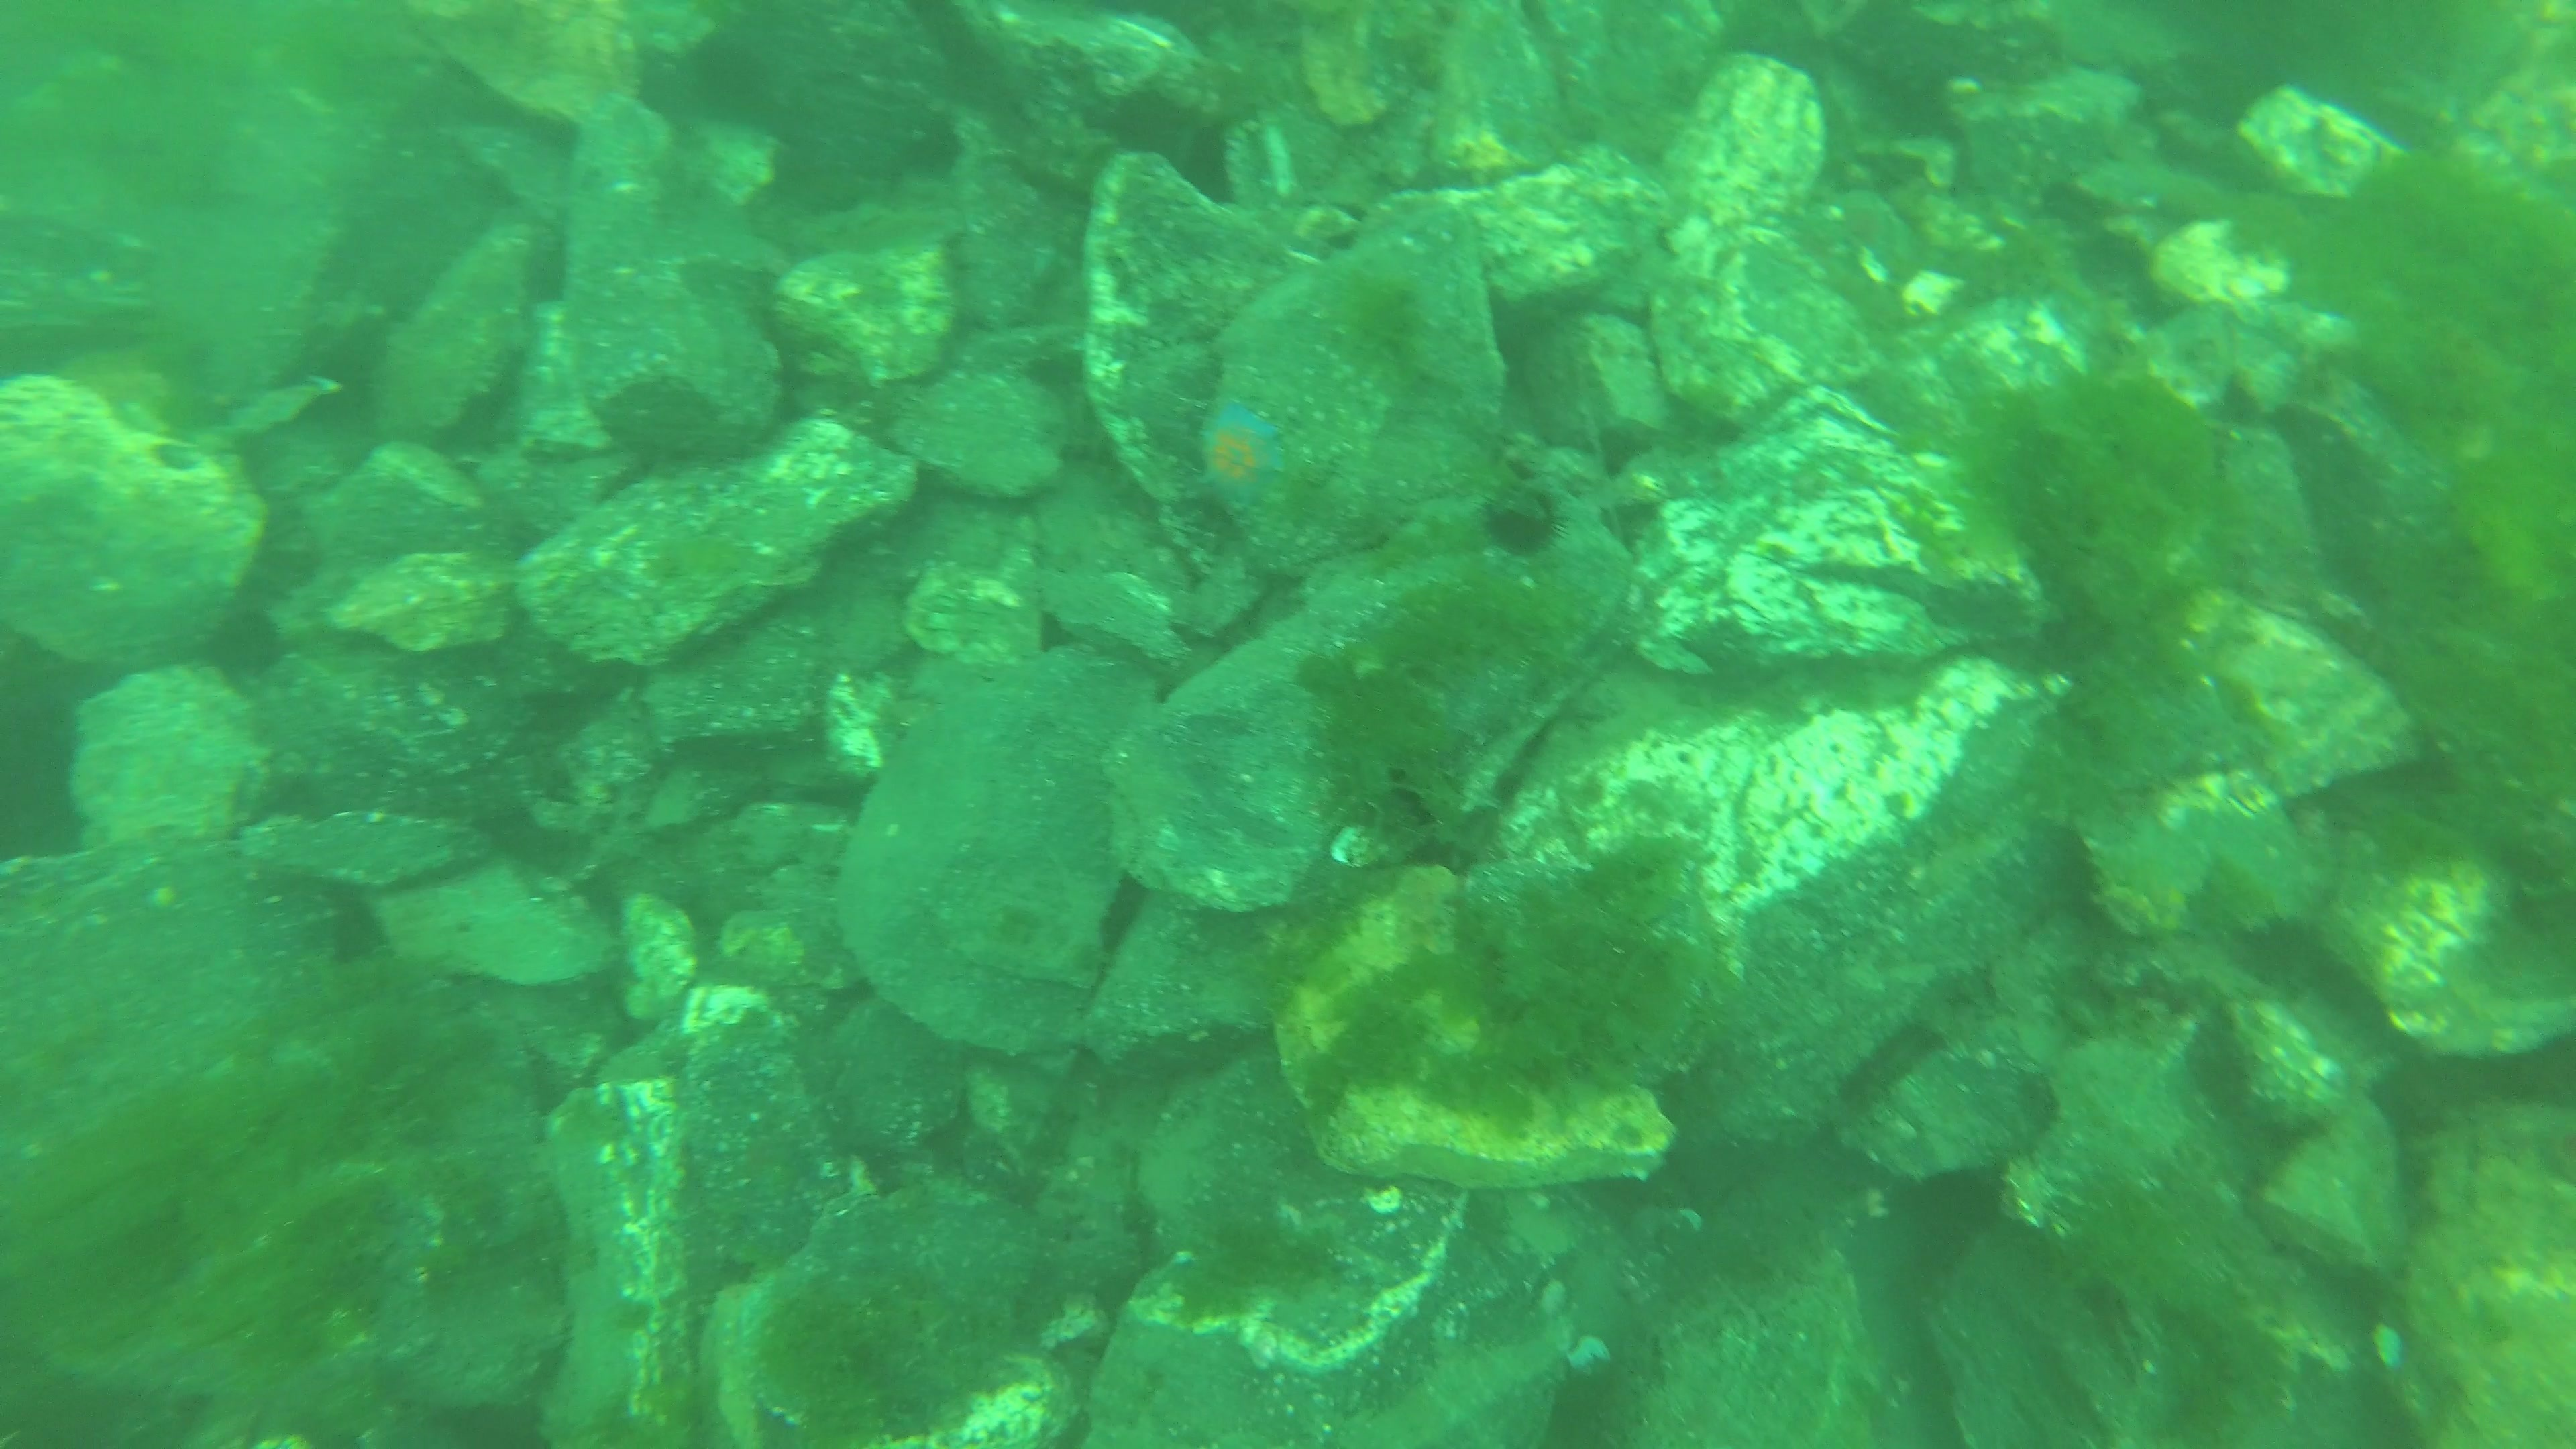echinus: (1476, 460, 1576, 563)
starfish: (1187, 402, 1292, 513)
